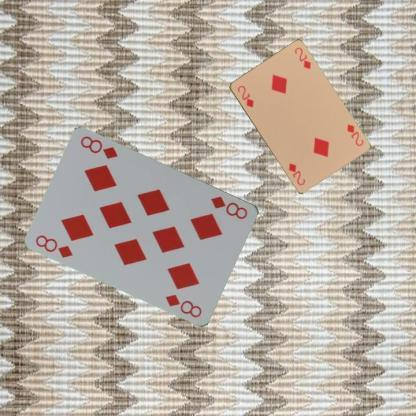2d: (234, 82, 254, 108), (344, 122, 364, 148)
8d: (209, 193, 250, 221), (32, 232, 74, 259)
